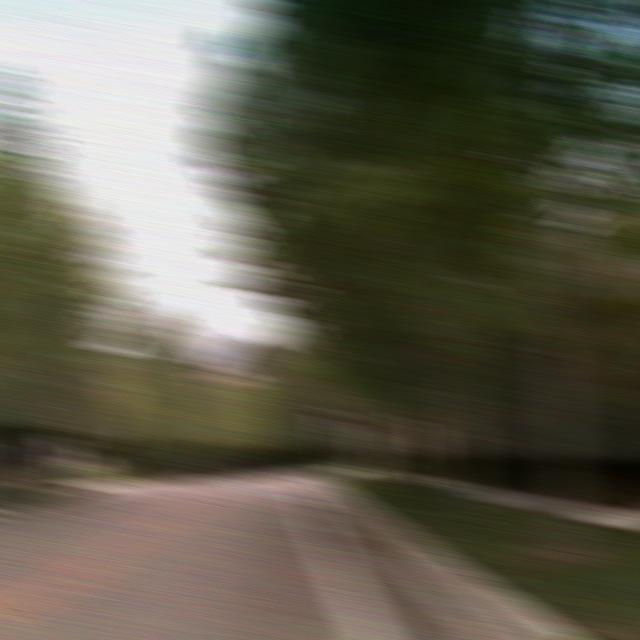stop: (311, 398, 345, 422)
